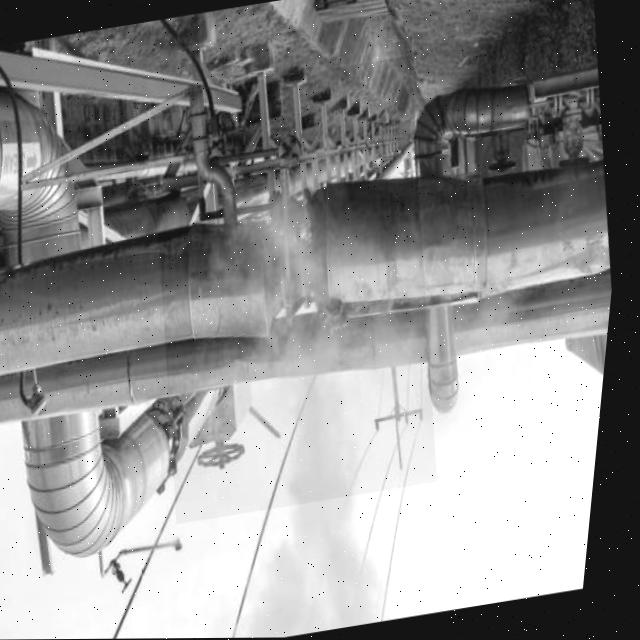corrosion: (237, 219, 421, 440)
